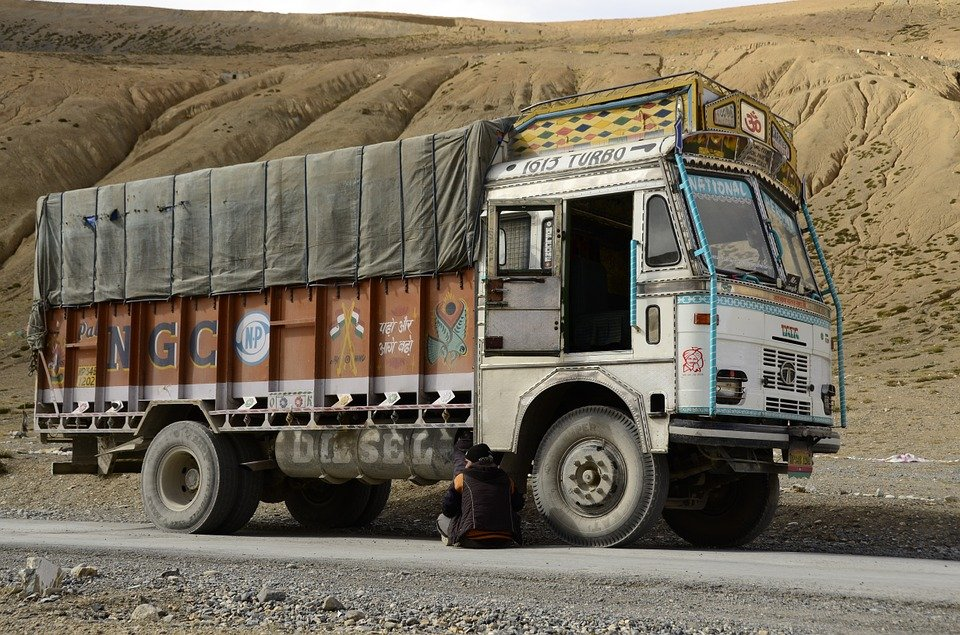truck: (35, 121, 841, 542)
